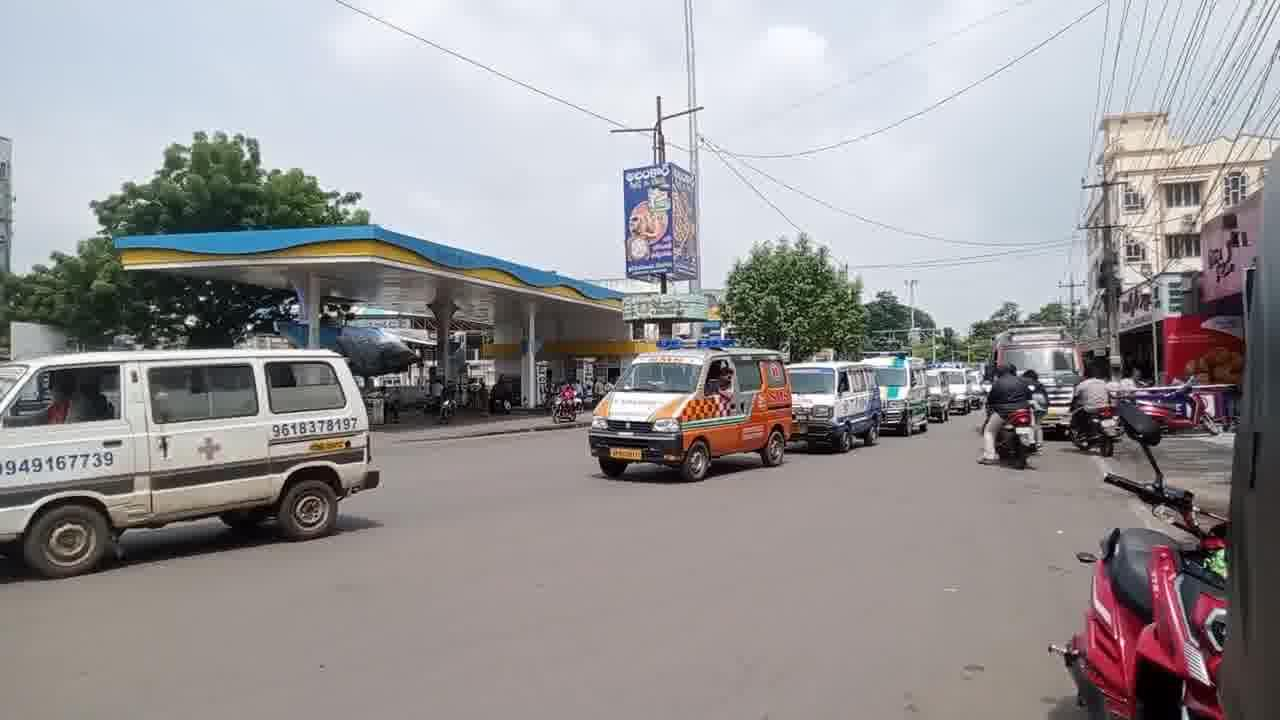AMBULANCE: (0, 346, 388, 593), (583, 341, 787, 486), (811, 348, 872, 456), (989, 316, 1108, 370), (898, 353, 925, 423)
